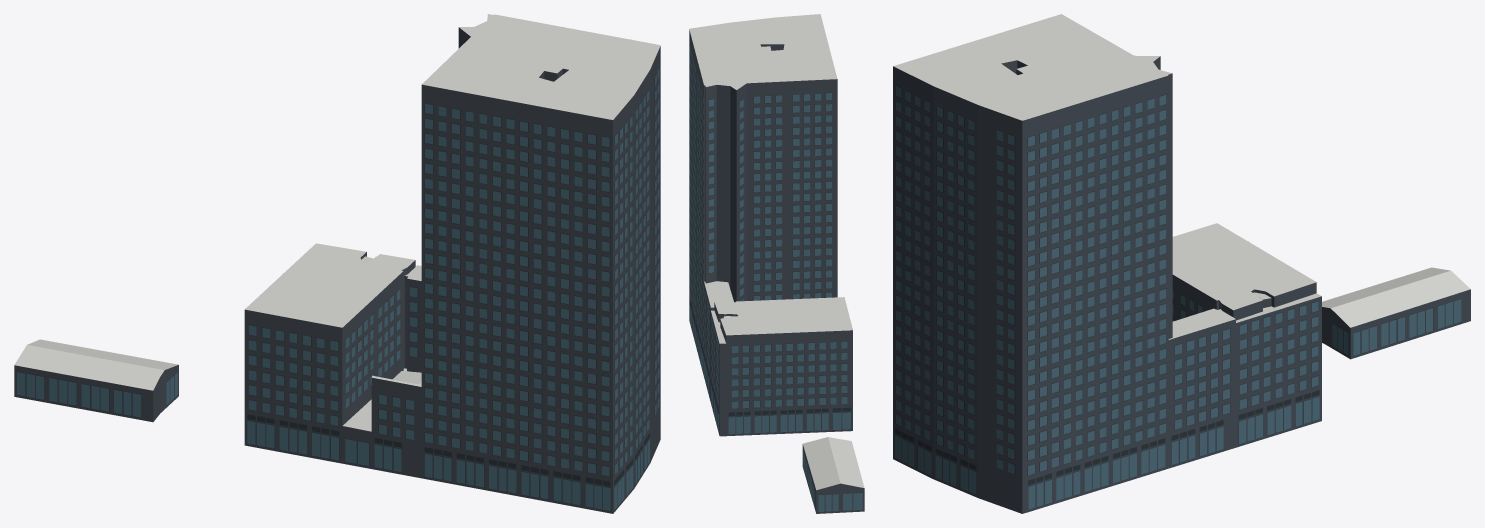
The model's file is bercylaan-801-855.glb.
3 renders of one model, left to right at view 1: azimuth 30°, elevation 25°; view 2: azimuth 150°, elevation 25°; view 3: azimuth 270°, elevation 25°, orthographic. The views are drawn at different scales.
Parts seen in each view (by area): view 1: bercylaan-801-855; view 2: bercylaan-801-855; view 3: bercylaan-801-855.
Boxes of the visible parts, x1,y1,x2,y2 form: bercylaan-801-855: (14,14,660,513); bercylaan-801-855: (689,14,864,513); bercylaan-801-855: (893,14,1470,513).
Size of the model in its own units: 92.63 by 78.98 by 105.
